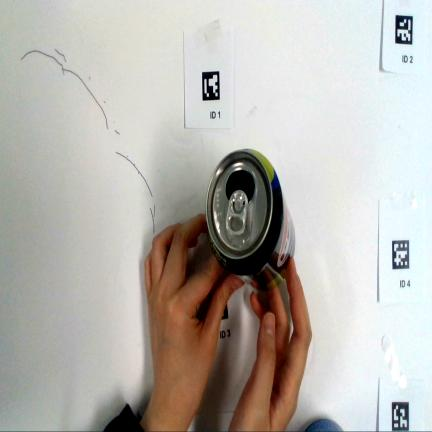can_pepsi_zero: (206, 149, 295, 290)
